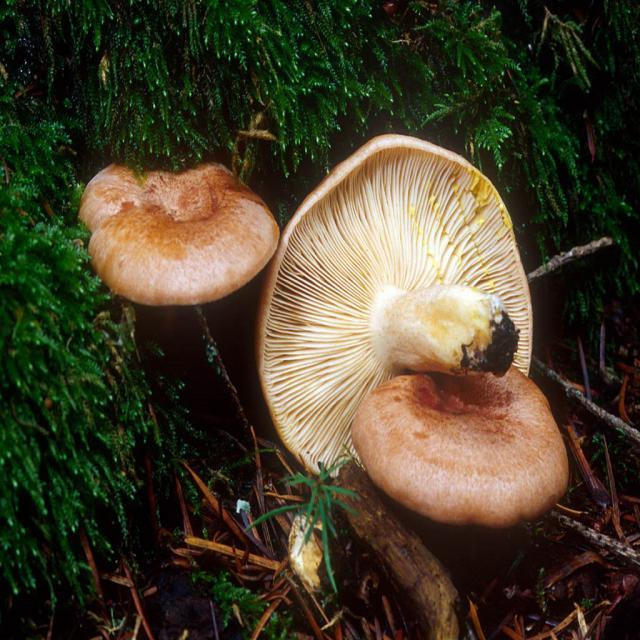Armillaria mellea: (259, 130, 570, 522), (83, 157, 277, 302)
